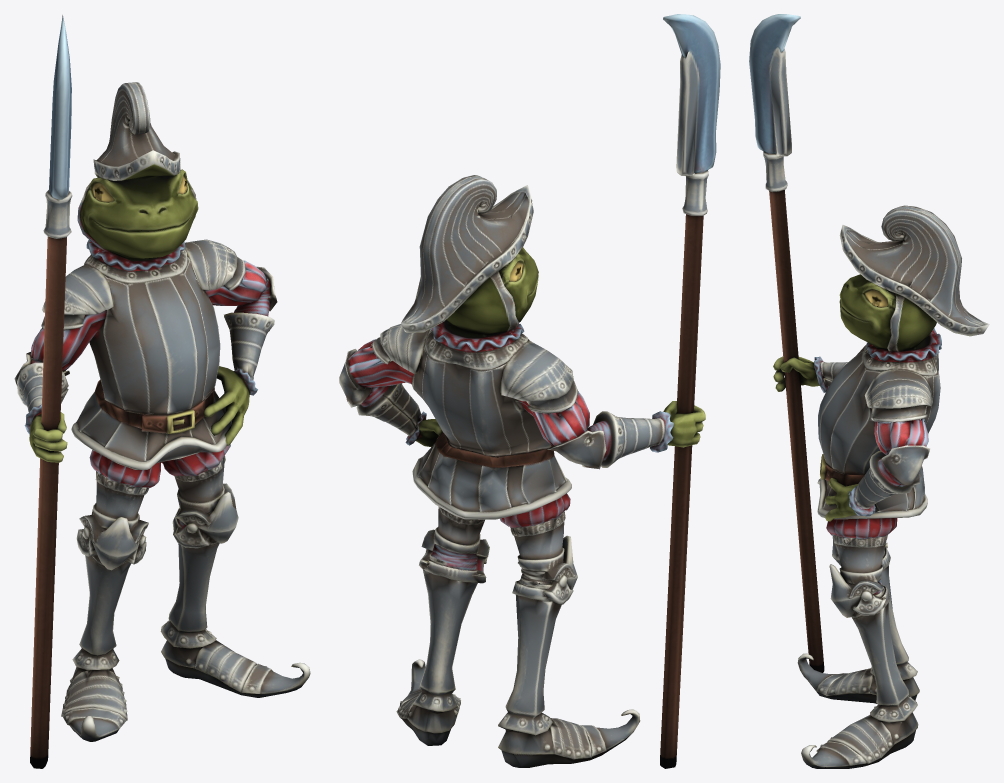
The model's file is MZ4250 - Bullywug Knight.glb.
The picture shows the model from 3 angles, left to right: view 1: azimuth 30°, elevation 25°; view 2: azimuth 150°, elevation 25°; view 3: azimuth 270°, elevation 25°; orthographic projection. The views are drawn at different scales.
Parts seen in each view (by area): view 1: body_high.002, weapon_high.002; view 2: body_high.002, weapon_high.002; view 3: body_high.002, weapon_high.002.
Boxes of the visible parts, box(x1,y1,x2,y2) form: body_high.002: box(14, 82, 310, 741); weapon_high.002: box(30, 15, 72, 768); body_high.002: box(339, 175, 705, 767); weapon_high.002: box(660, 14, 720, 768); body_high.002: box(773, 205, 989, 768); weapon_high.002: box(749, 14, 824, 672).
Bounding box in the file's own units: 2.79 × 6.66 × 2.19.
1 material, 1 textured.
